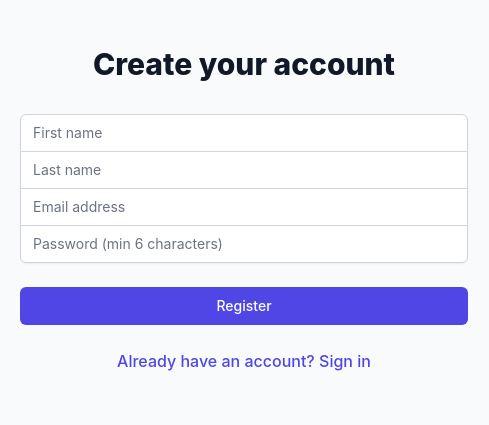
Test: Register › should show error when password is too short
This screenshot has width=489, height=425.
Type "John" into the field with placeholder "First name" at (244, 132), box [20,114,468,152]
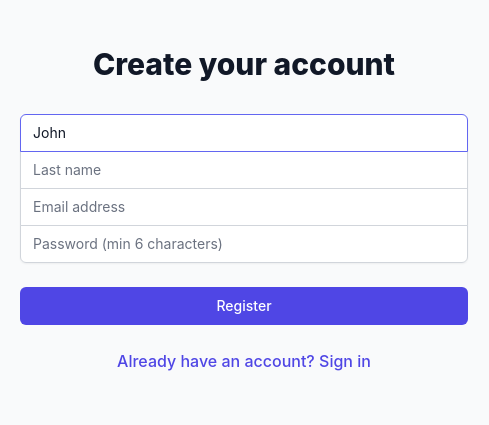
Type "Doe" into the field with placeholder "Last name" at (244, 170), box [20,150,468,188]
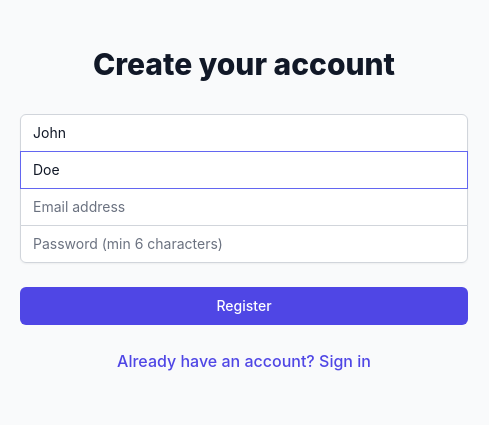
Type "a@b.com" into the field with placeholder "Email address" at (244, 206), box [20,188,468,226]
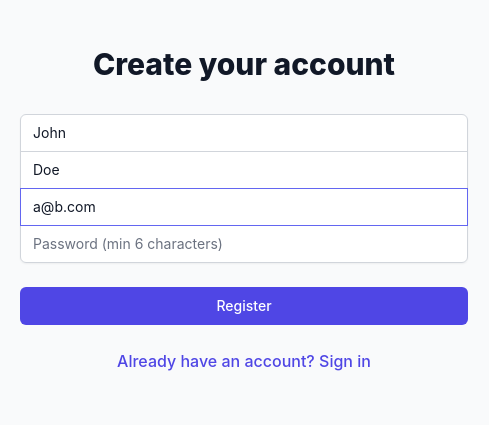
Type "12345" into the password field with placeholder "Password (min 6 characters)" at (244, 244), box [20,224,468,262]
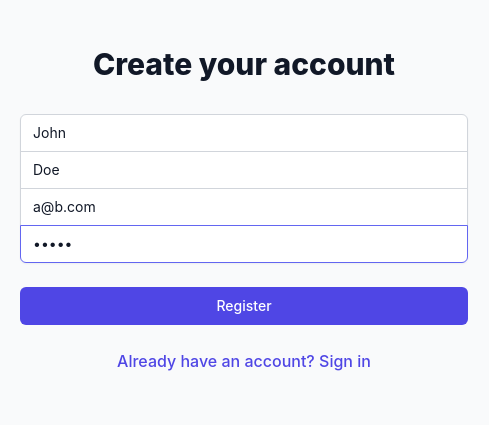
Click the button "Register" at (244, 306), box [20,286,468,324]
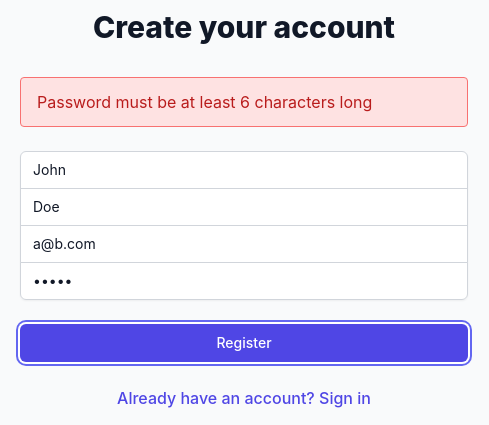
expect the text "Password must be at least 6 characters long" is shown: met, box [20,76,468,126]
